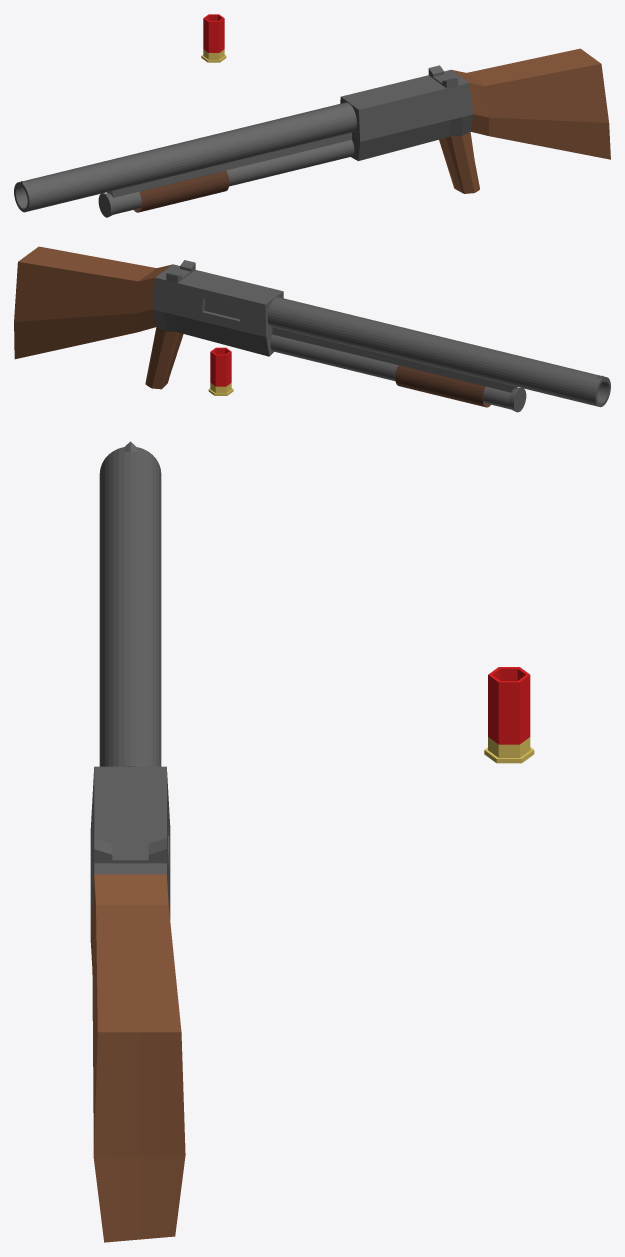
Rendered from Shotgun.fbx.
3 views of the same model, one above another, from view 1: azimuth 30°, elevation 25°; view 2: azimuth 150°, elevation 25°; view 3: azimuth 270°, elevation 25° (orthographic). The views are drawn at different scales.
Visible parts, largest first — view 1: Shotgun, Pump, Shell; view 2: Shotgun, Pump, Shell; view 3: Shotgun, Shell.
Part boxes in pixels (left/top/right/bottom): Shotgun: left=14, top=48, right=610, bottom=217; Pump: left=134, top=170, right=229, bottom=212; Shell: left=201, top=14, right=226, bottom=62; Shotgun: left=14, top=246, right=610, bottom=412; Pump: left=395, top=365, right=490, bottom=407; Shell: left=208, top=347, right=233, bottom=395; Shotgun: left=90, top=441, right=185, bottom=1242; Shell: left=484, top=667, right=534, bottom=763.
Size of the model in its own units: 4366 by 1006 by 1439.
